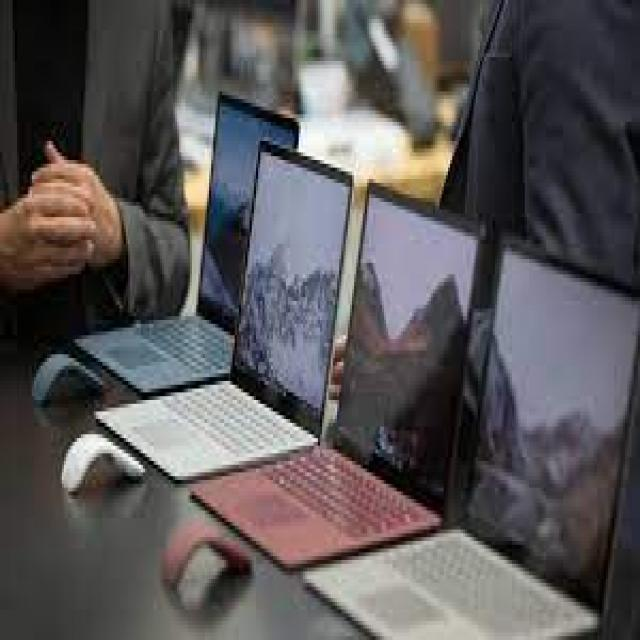others: (68, 91, 640, 636)
